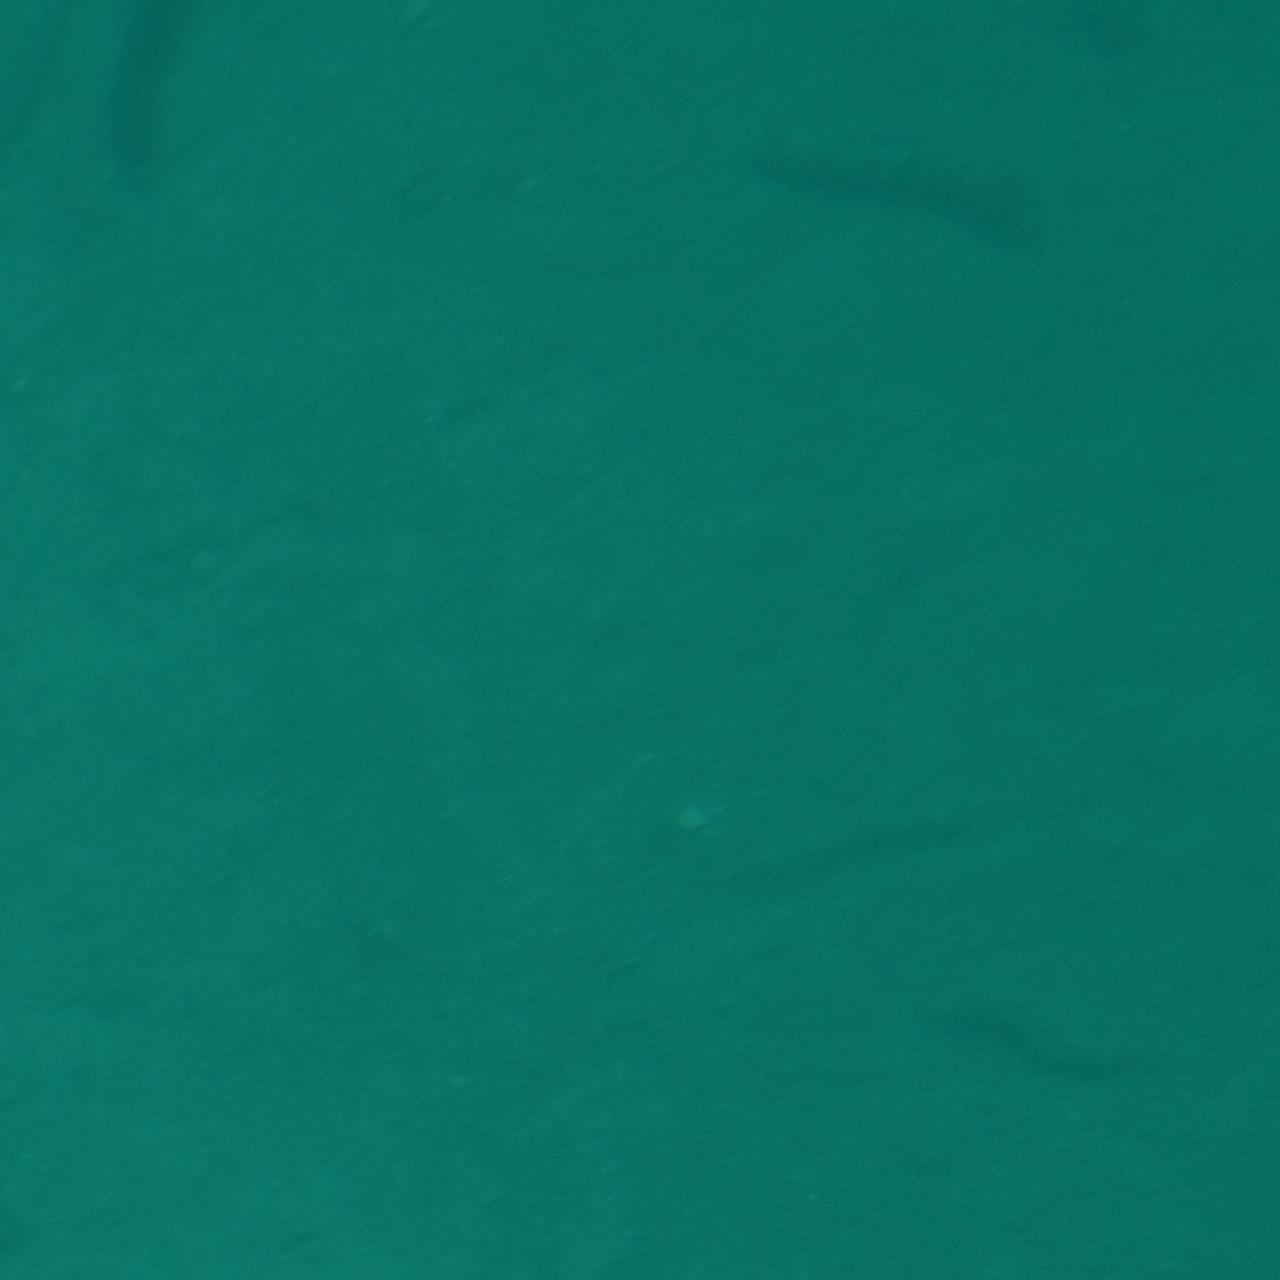Holothuria tubulosa: (706, 105, 1107, 265), (890, 982, 1197, 1098)
